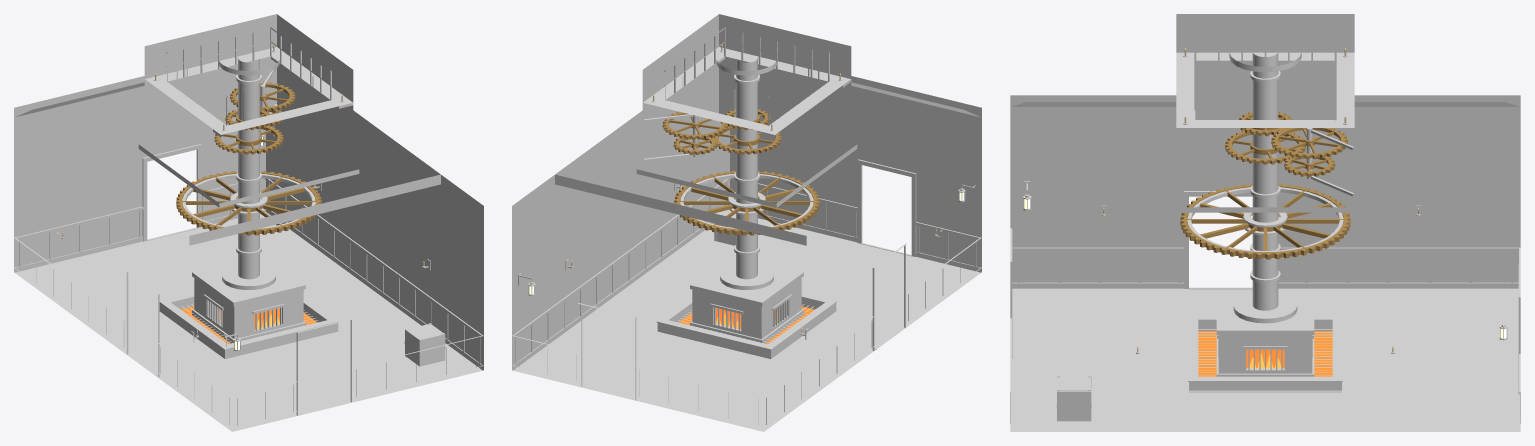
The model's file is gear-shaft.glb.
3 renders of one model, left to right at view 1: azimuth 30°, elevation 25°; view 2: azimuth 150°, elevation 25°; view 3: azimuth 270°, elevation 25°, orthographic. The views are drawn at different scales.
Parts seen in each view (by area): view 1: gear-shaft, gear-shaft_gear_ring; view 2: gear-shaft, gear-shaft_gear_ring; view 3: gear-shaft, gear-shaft_gear_ring.
Part boxes in pixels (box(x1,y1,x2,y2)): gear-shaft: box(14, 14, 483, 431); gear-shaft_gear_ring: box(176, 171, 321, 235); gear-shaft: box(512, 14, 981, 431); gear-shaft_gear_ring: box(674, 170, 819, 235); gear-shaft: box(1010, 14, 1520, 431); gear-shaft_gear_ring: box(1180, 183, 1350, 259).
Bounding box in the file's own units: 8 × 8 × 12.
